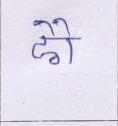i_matra: (54, 17, 78, 64)
